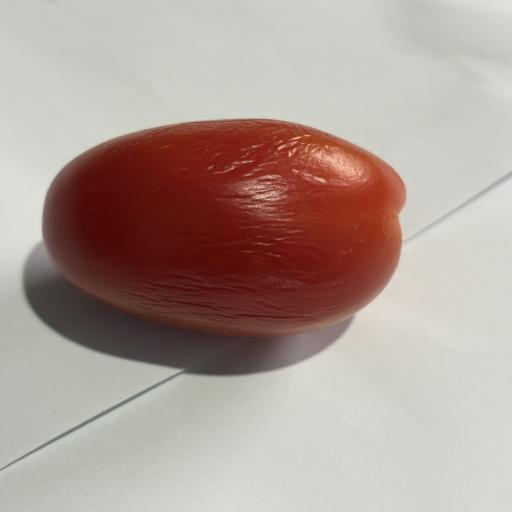spoiled: (43, 119, 405, 336)
